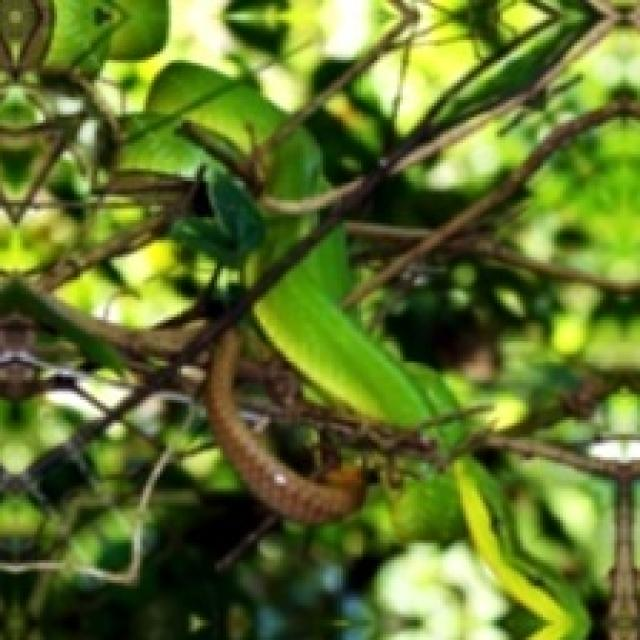red-tailed green ratsnake: (70, 62, 456, 523), (451, 458, 589, 639), (461, 471, 540, 613)
